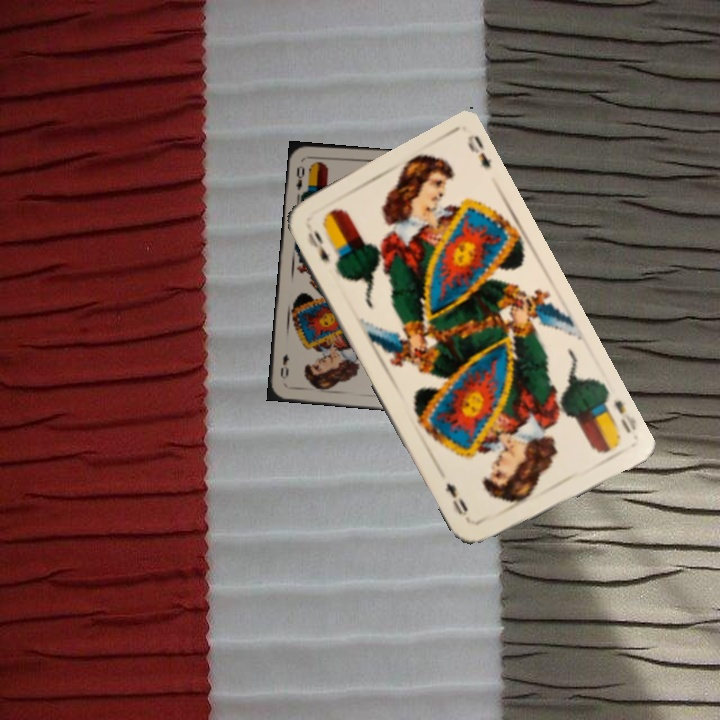EO: (303, 225, 333, 264), (610, 396, 639, 436), (292, 162, 307, 193)
